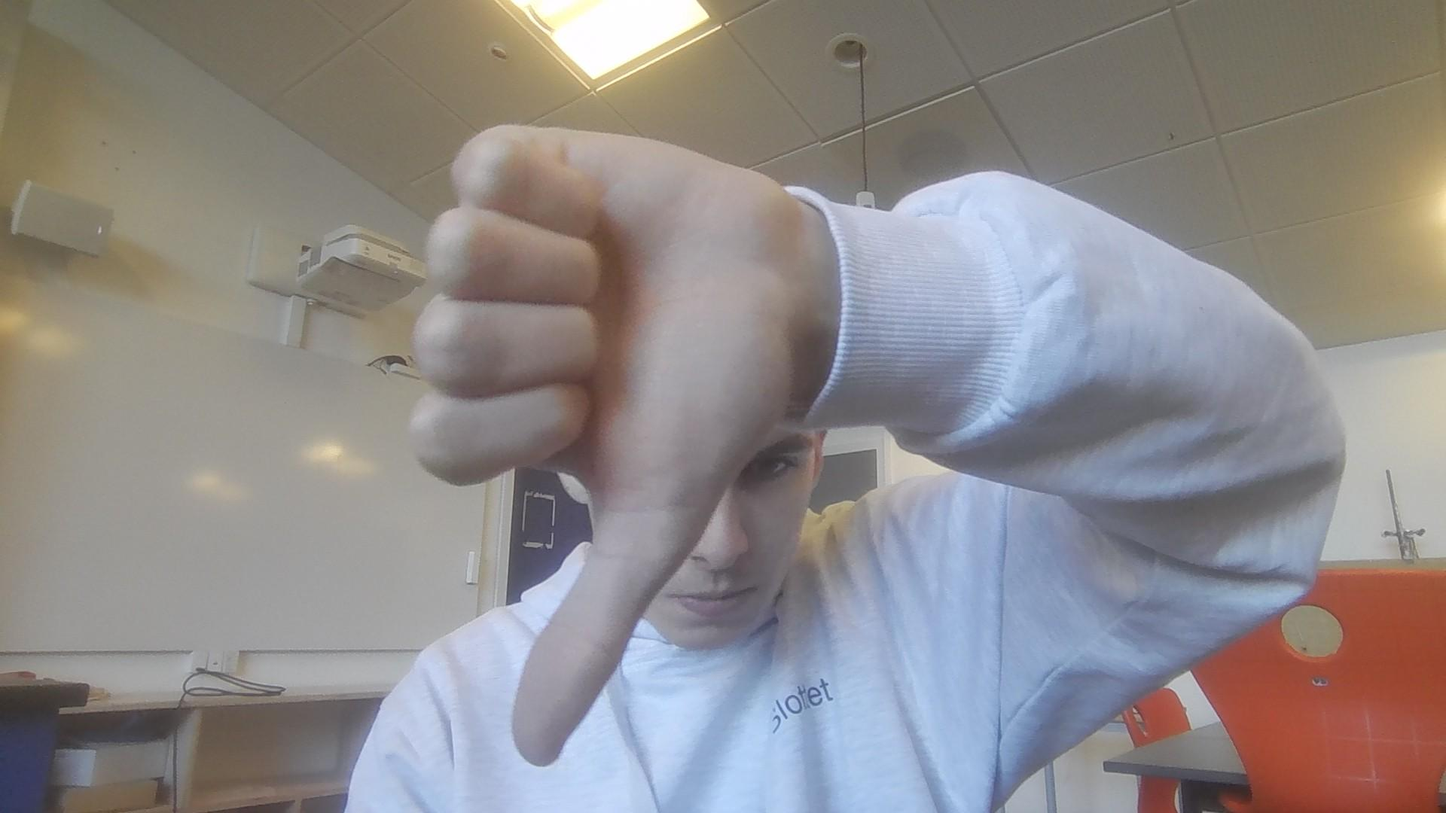thumbs down: (403, 120, 823, 769)
